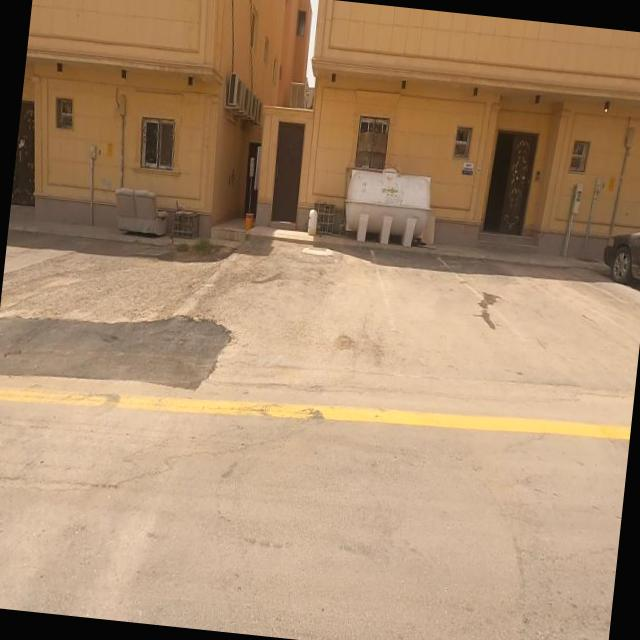debris: (146, 174, 221, 268), (283, 184, 346, 264)
